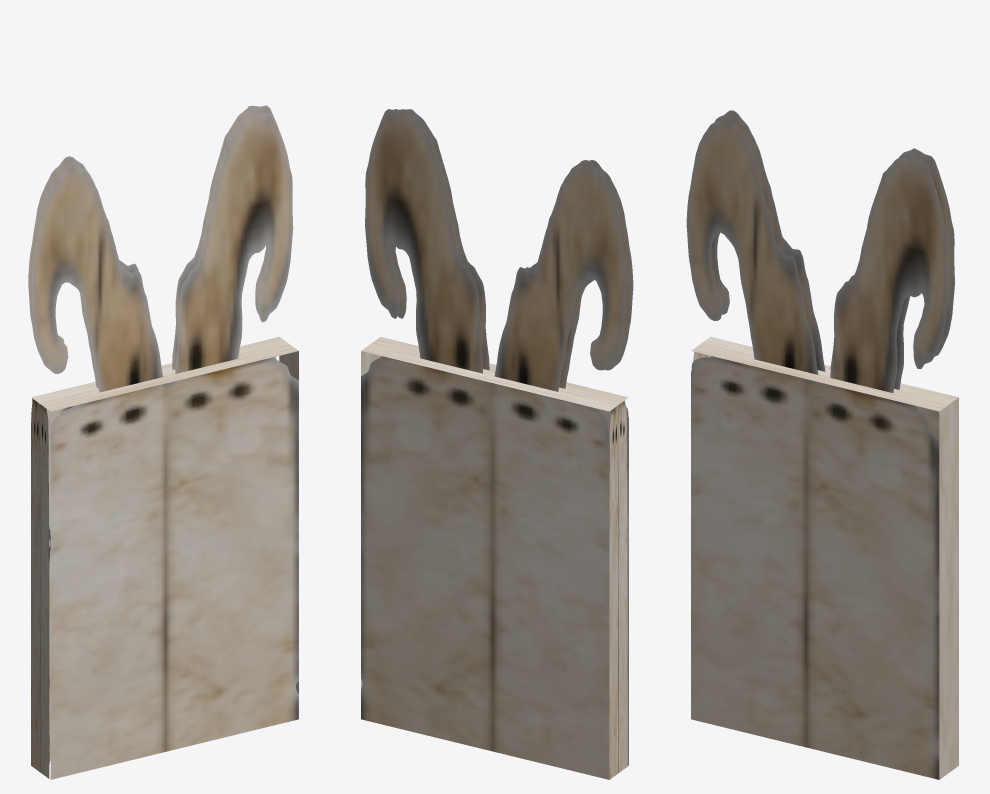
File: prop_helmet_boar_tusk_01.dae
The picture shows the model from 3 angles, left to right: view 1: azimuth 30°, elevation 25°; view 2: azimuth 150°, elevation 25°; view 3: azimuth 330°, elevation 25°; orthographic projection.
Visible parts, largest first — view 1: prop_boar_tusk_01; view 2: prop_boar_tusk_01; view 3: prop_boar_tusk_01.
Part boxes in pixels (left/top/right/bottom): prop_boar_tusk_01: left=28, top=105, right=298, bottom=779; prop_boar_tusk_01: left=361, top=109, right=633, bottom=779; prop_boar_tusk_01: left=686, top=110, right=958, bottom=779.
Size of the model in its own units: 0.15 by 0.017 by 0.3333.
